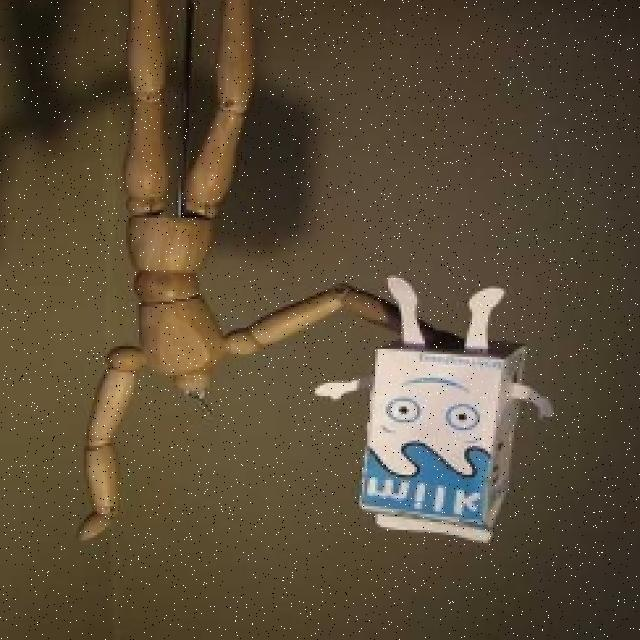box: (339, 317, 575, 545)
